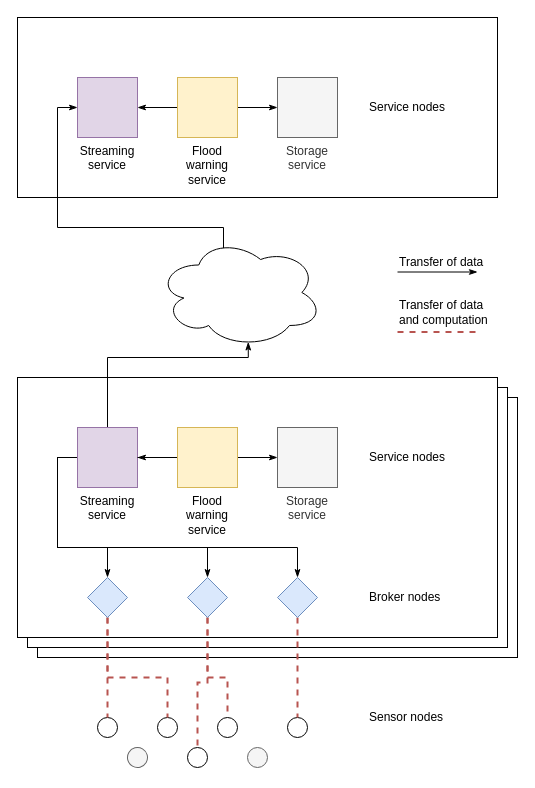
This 535x788 diagram has some shape labels left out. The box of each missing label's shape, as (x1, y1, x2, y2) in pixels:
Cloud cluster: (16, 16, 498, 198)
Edge cluster: (16, 376, 498, 638)
internet: (156, 236, 322, 348)
